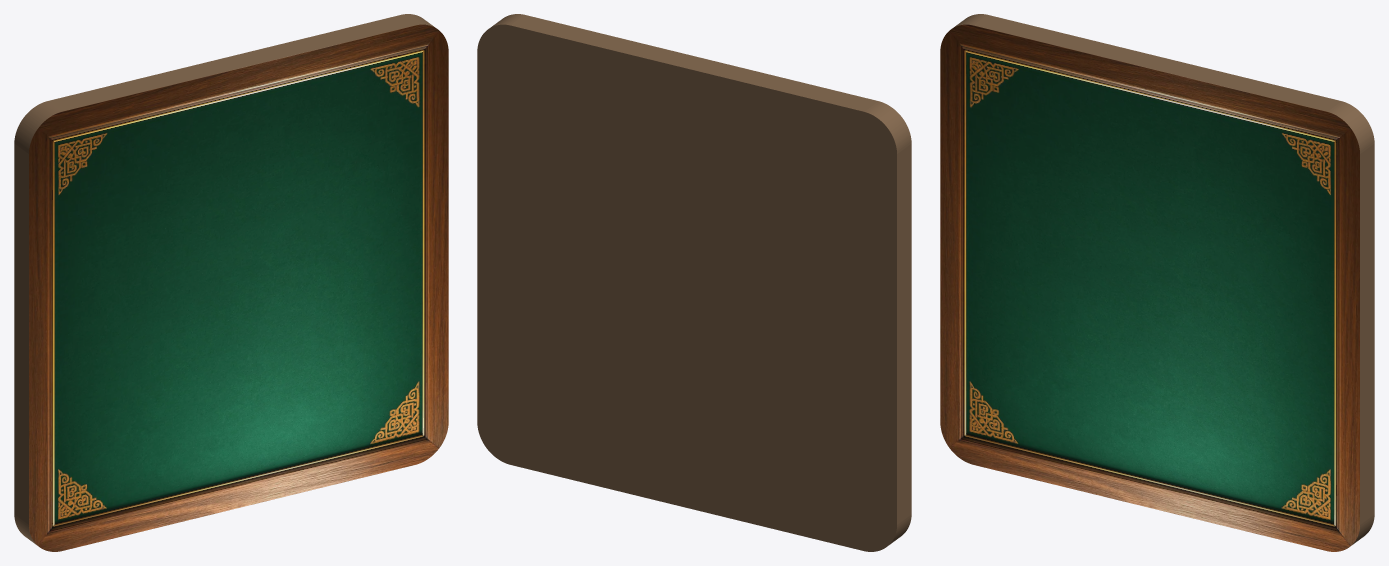
File: rounded_table_panel_v4.compressed.glb
The picture shows the model from 3 angles, left to right: view 1: azimuth 30°, elevation 25°; view 2: azimuth 150°, elevation 25°; view 3: azimuth 330°, elevation 25°; orthographic projection.
Parts seen in each view (by area): view 1: top, sides; view 2: sides; view 3: top, sides.
Boxes of the visible parts, box(x1,y1,x2,y2) form: top: box(29, 24, 448, 551); sides: box(14, 14, 434, 544); sides: box(477, 14, 911, 551); top: box(940, 24, 1359, 551); sides: box(954, 14, 1374, 544).
Bounding box in the file's own units: 1 × 1 × 0.06.
Materials: 1 (1 with a texture image).
